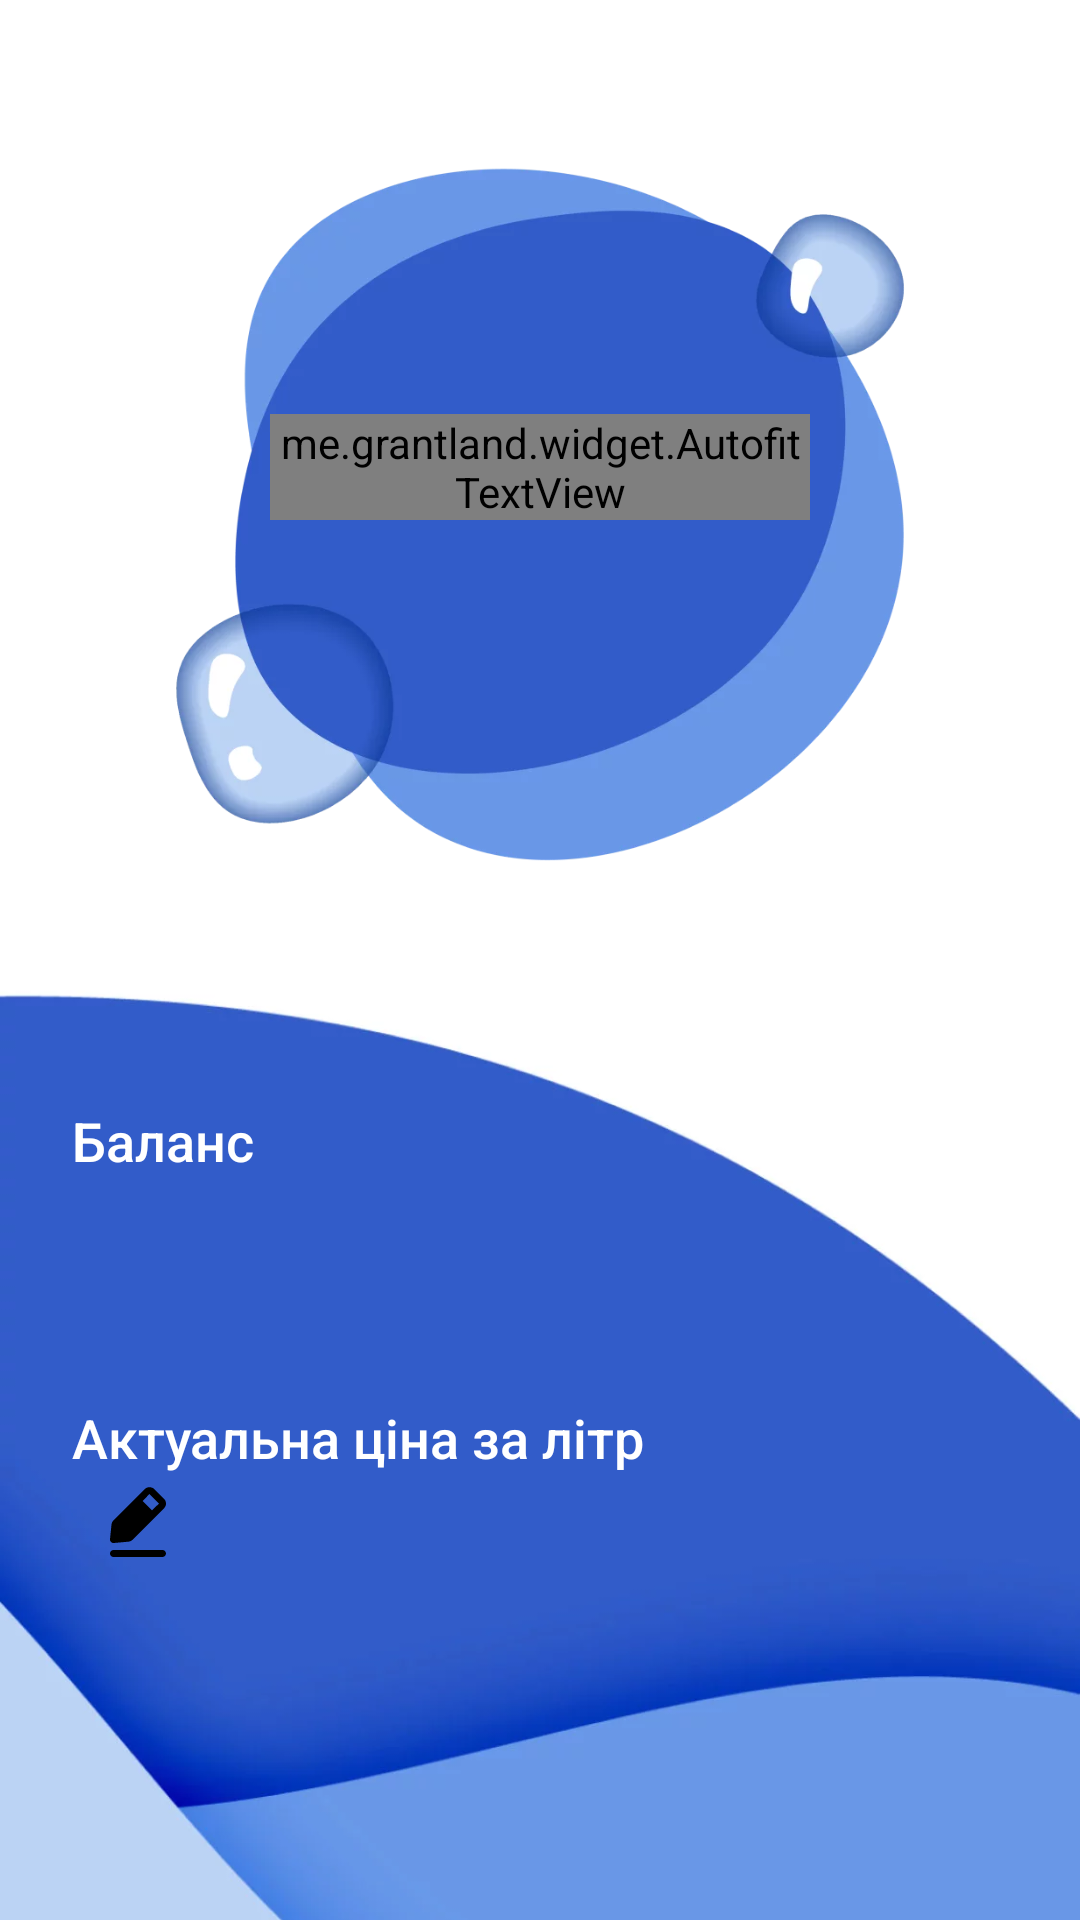

Locate icon controls on the screen. Image size 1080*1920, boxes as (x1, y1, x2, y2).
Змінити ціну за літр: (110, 1487, 166, 1557)
